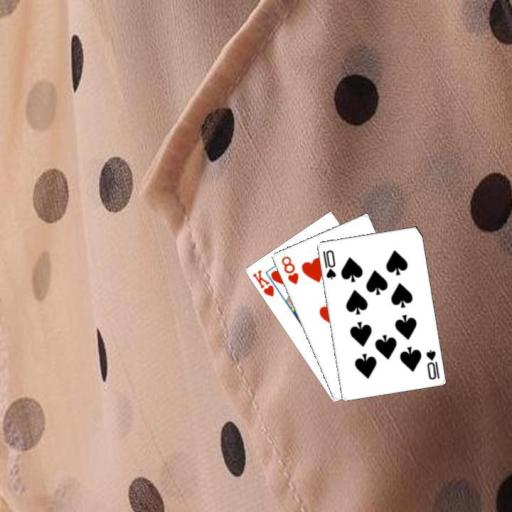10S: (423, 346, 441, 381), (319, 247, 337, 281)
8H: (278, 252, 300, 286)
KH: (249, 267, 275, 298)
